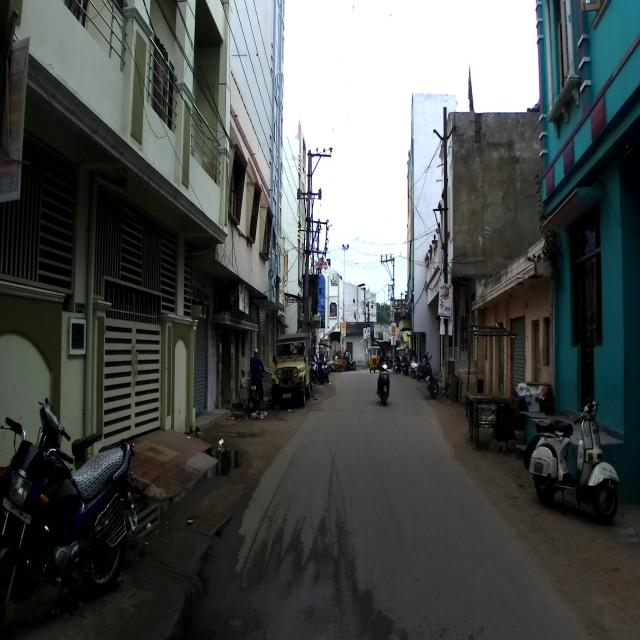motorcycle: (0, 414, 139, 629)
scooter: (35, 394, 106, 574), (523, 399, 620, 524)
